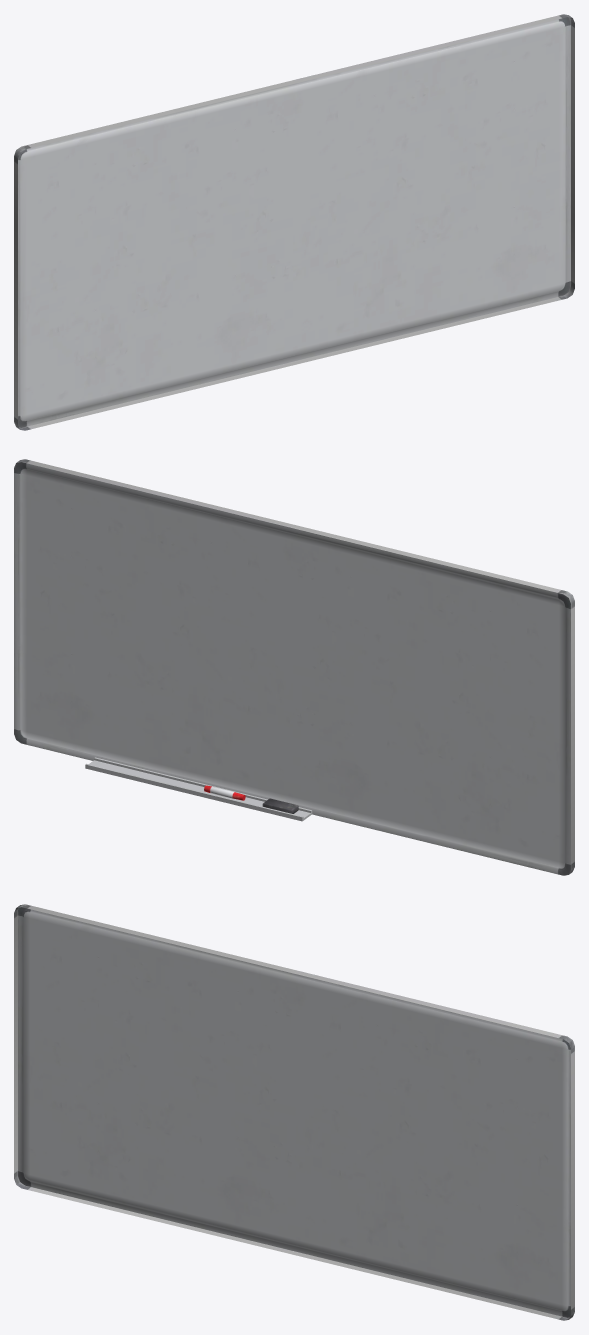
File: whiteboard_wall.glb
3 renders of one model, top to bottom at view 1: azimuth 30°, elevation 25°; view 2: azimuth 150°, elevation 25°; view 3: azimuth 330°, elevation 25°, orthographic.
Visible parts, largest first — view 1: Marker_low__0; view 2: Marker_low__0; view 3: Marker_low__0.
Part boxes in pixels (<box>): Marker_low__0: <box>14,14,574,430</box>; Marker_low__0: <box>14,459,574,875</box>; Marker_low__0: <box>14,904,574,1320</box>.
Bounding box in the file's own units: 3.98 × 1.92 × 0.1699.
1 material, 1 textured.
